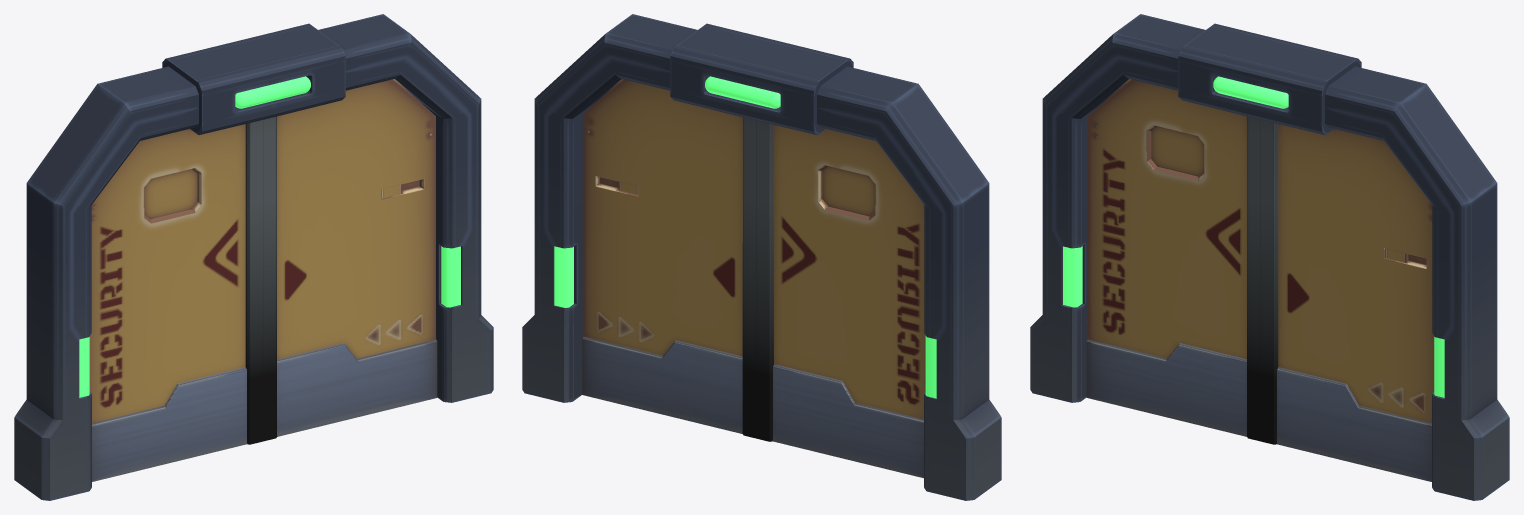
File: doorA_open_low.fbx
3 views of the same model, side by side, from view 1: azimuth 30°, elevation 25°; view 2: azimuth 150°, elevation 25°; view 3: azimuth 330°, elevation 25° (orthographic).
Visible parts, largest first — view 1: outline_low1, door001_low, left door_low; view 2: outline_low1, door001_low, left door_low; view 3: outline_low1, left door_low, door001_low.
Part boxes in pixels (left/top/right/bottom): outline_low1: left=14, top=14, right=493, bottom=500; door001_low: left=263, top=79, right=437, bottom=441; left door_low: left=89, top=120, right=262, bottom=481; outline_low1: left=522, top=14, right=1001, bottom=500; door001_low: left=582, top=79, right=756, bottom=438; left door_low: left=756, top=121, right=925, bottom=478; outline_low1: left=1030, top=14, right=1509, bottom=500; left door_low: left=1086, top=79, right=1260, bottom=441; door001_low: left=1261, top=120, right=1434, bottom=481.
Size of the model in its own units: 2529 by 2040 by 423.
